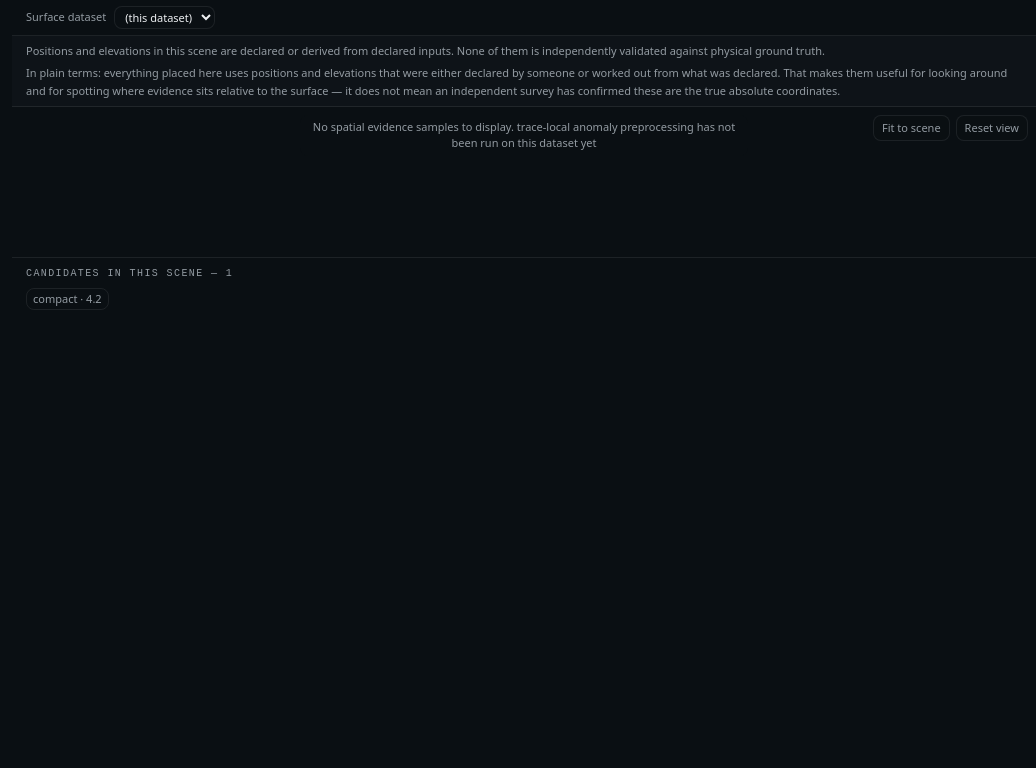
it: resolved scenes › selecting a placeable candidate opens its detail panel with provenance
Check: the heading "Candidates in this scene — 1" is shown, box x1=26 y1=268 x2=233 y2=279
Click the button "compact · 4.2": click(67, 299) x1=26 y1=288 x2=109 y2=310
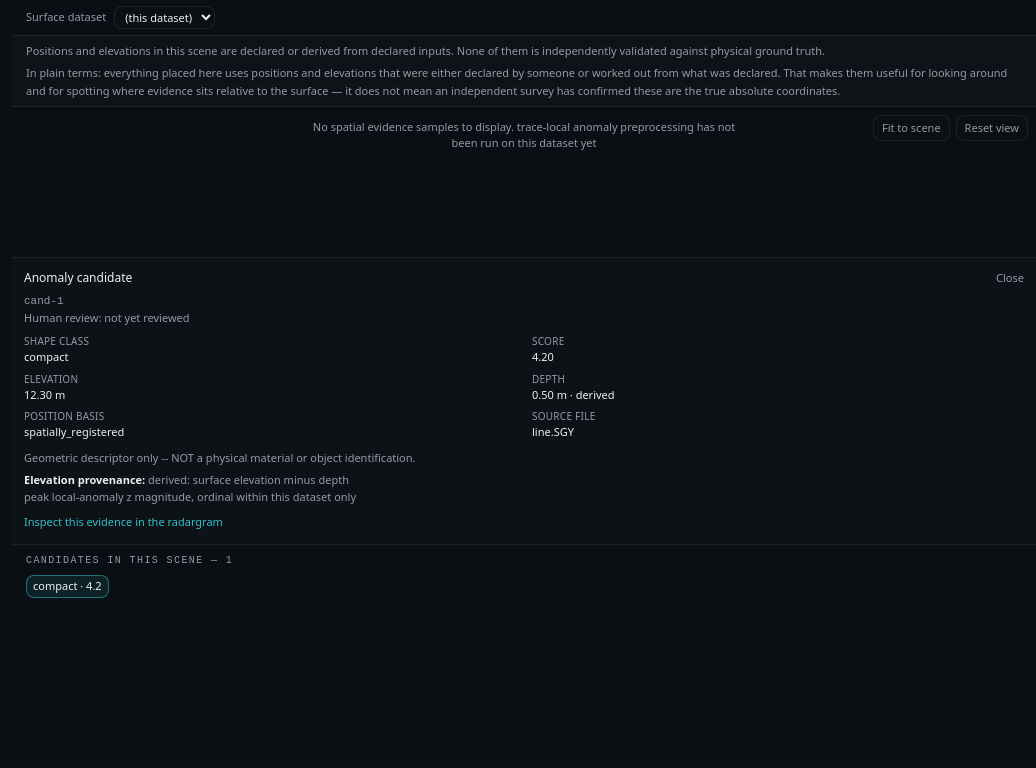
Check: the text "Anomaly candidate" is shown, box x1=24 y1=270 x2=132 y2=286
Check: the text "derived: surface elevation minus depth" is shown, box x1=148 y1=472 x2=349 y2=486
Check: the text "12.30 m" is shown, box x1=24 y1=387 x2=65 y2=402
Click the button "Close": click(1010, 278) x1=996 y1=270 x2=1024 y2=286
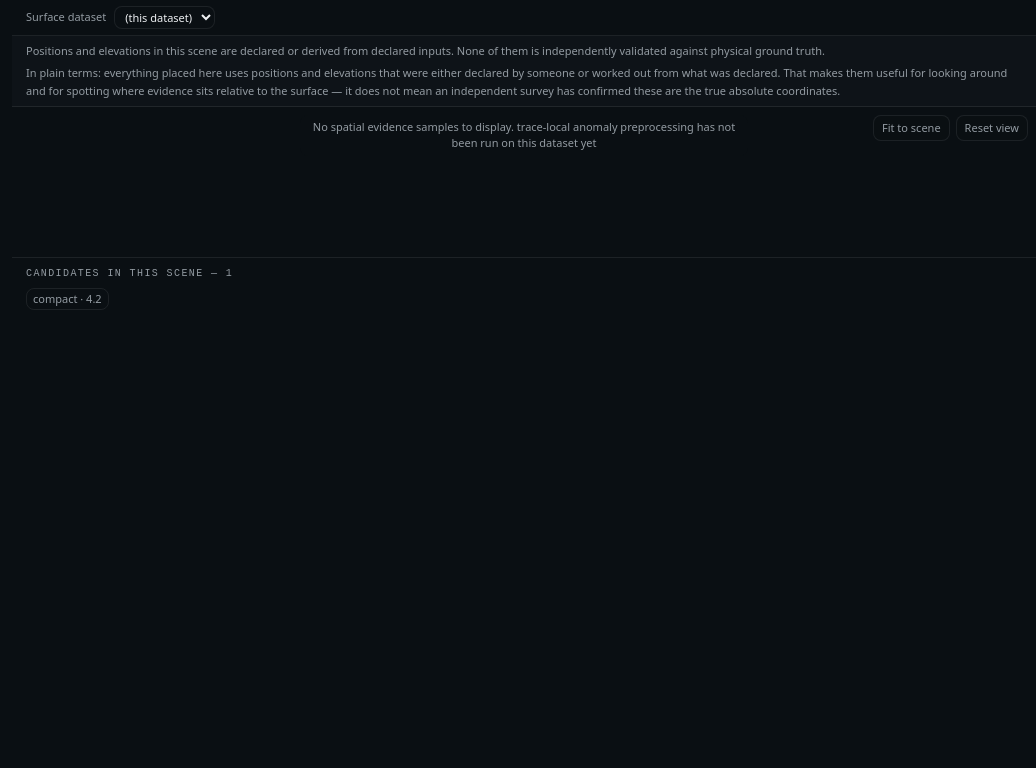
Check: the text "Anomaly candidate" is gone
